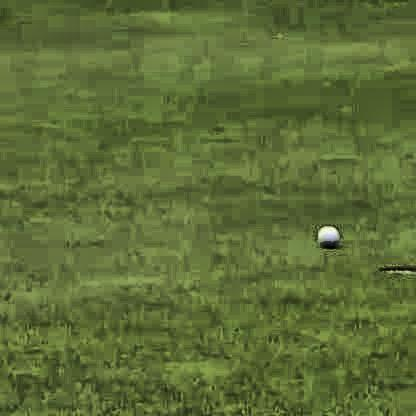golfball: (314, 222, 337, 247)
